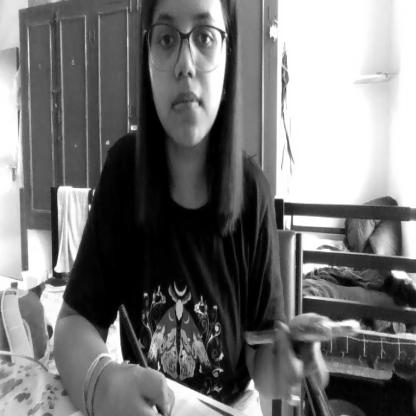Normal: (144, 0, 231, 156)
